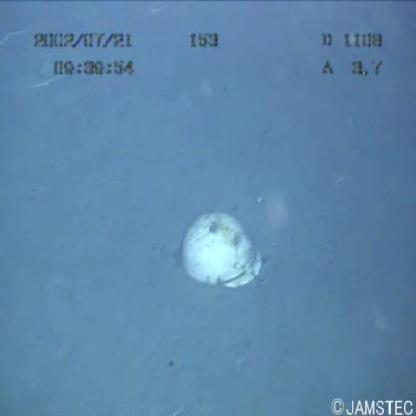Rác: (157, 197, 271, 296)
